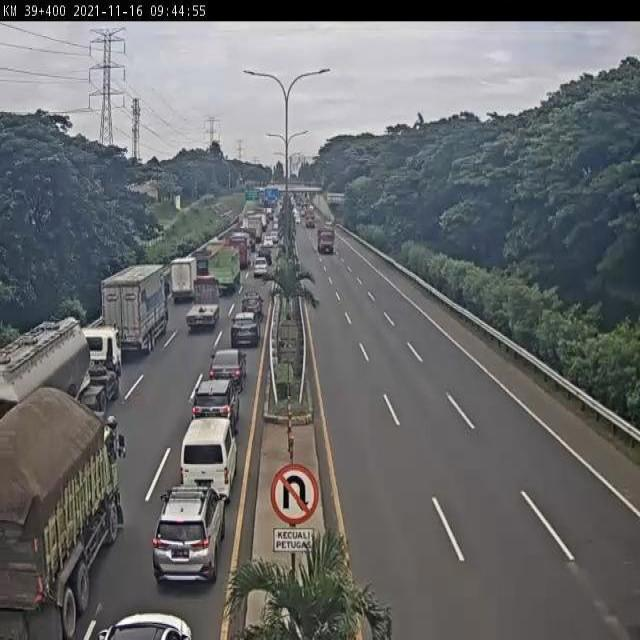Car: (152, 485, 228, 587), (93, 610, 194, 638), (191, 377, 241, 432), (208, 348, 248, 391), (230, 312, 260, 347), (253, 256, 268, 276), (258, 244, 272, 263), (263, 236, 274, 249)
Truck: (0, 389, 125, 640), (0, 318, 120, 411), (100, 264, 169, 354), (184, 274, 221, 329), (168, 255, 198, 298), (317, 228, 335, 254)
Van: (179, 416, 239, 500)
